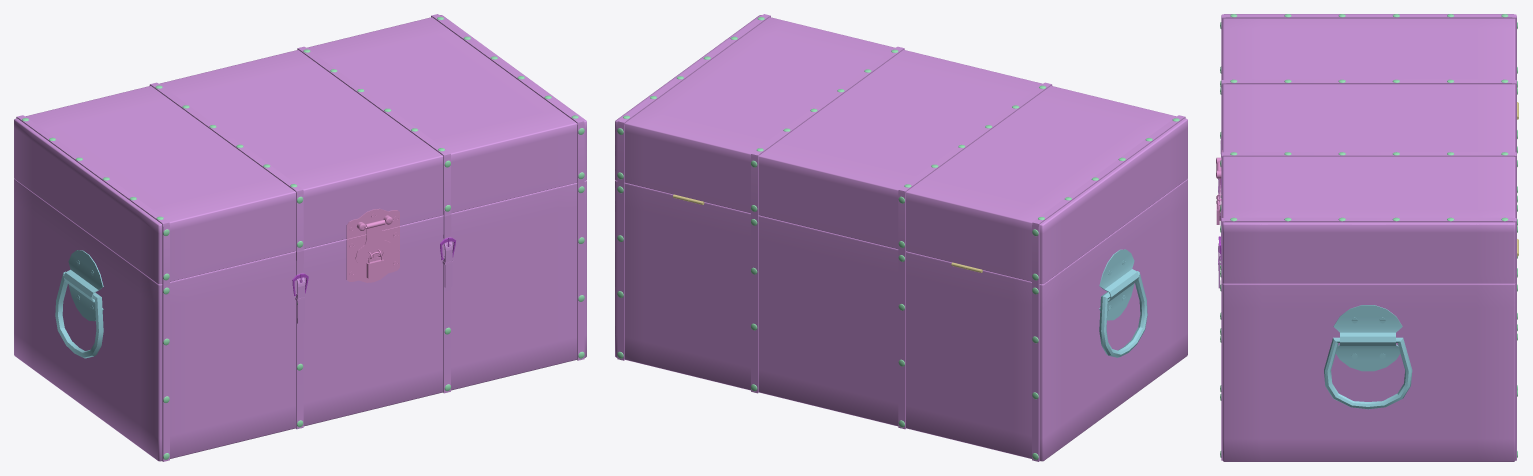
Rendered from Chest Leather.obj.
3 renders of one model, left to right at view 1: azimuth 30°, elevation 25°; view 2: azimuth 150°, elevation 25°; view 3: azimuth 270°, elevation 25°, orthographic.
Parts seen in each view (by area): view 1: Chest, The_lid_of_the_chest, Belts, The_trunk_lock, The_handles_of_the_chest, Rivets; view 2: Chest, The_lid_of_the_chest, Belts, The_handles_of_the_chest, Rivets; view 3: The_lid_of_the_chest, Chest, Belts, The_handles_of_the_chest, Rivets.
Boxes of the visible parts, bbox=[...] form: Chest: bbox=[14, 179, 586, 461]; The_lid_of_the_chest: bbox=[14, 15, 586, 284]; Belts: bbox=[16, 14, 584, 461]; The_trunk_lock: bbox=[346, 208, 399, 282]; The_handles_of_the_chest: bbox=[55, 250, 103, 358]; Rivets: bbox=[22, 17, 584, 459]; Chest: bbox=[615, 179, 1187, 461]; The_lid_of_the_chest: bbox=[615, 15, 1187, 284]; Belts: bbox=[617, 14, 1185, 461]; The_handles_of_the_chest: bbox=[1099, 249, 1147, 357]; Rivets: bbox=[617, 17, 1179, 459]; The_lid_of_the_chest: bbox=[1222, 14, 1515, 283]; Chest: bbox=[1222, 283, 1515, 461]; Belts: bbox=[1218, 14, 1516, 460]; The_handles_of_the_chest: bbox=[1324, 305, 1412, 409]; Rivets: bbox=[1220, 14, 1517, 457].
Size of the model in its own units: 72.18 by 36.24 by 41.36.
